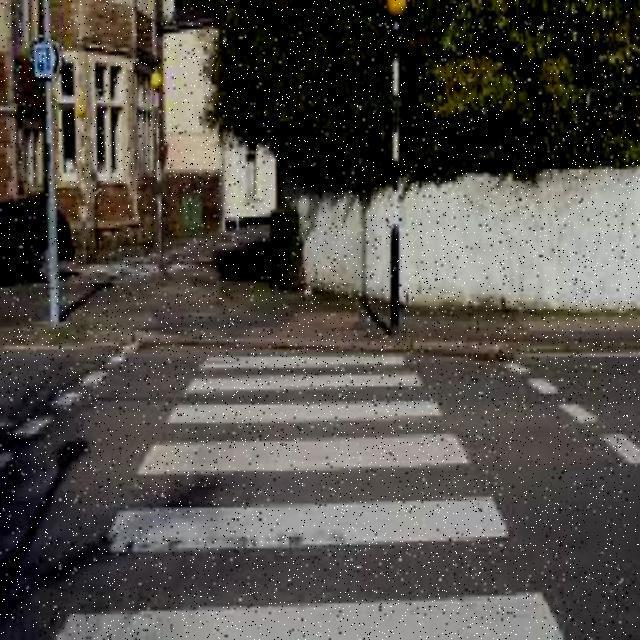Pedestrian crosswalk: (43, 346, 566, 637)
